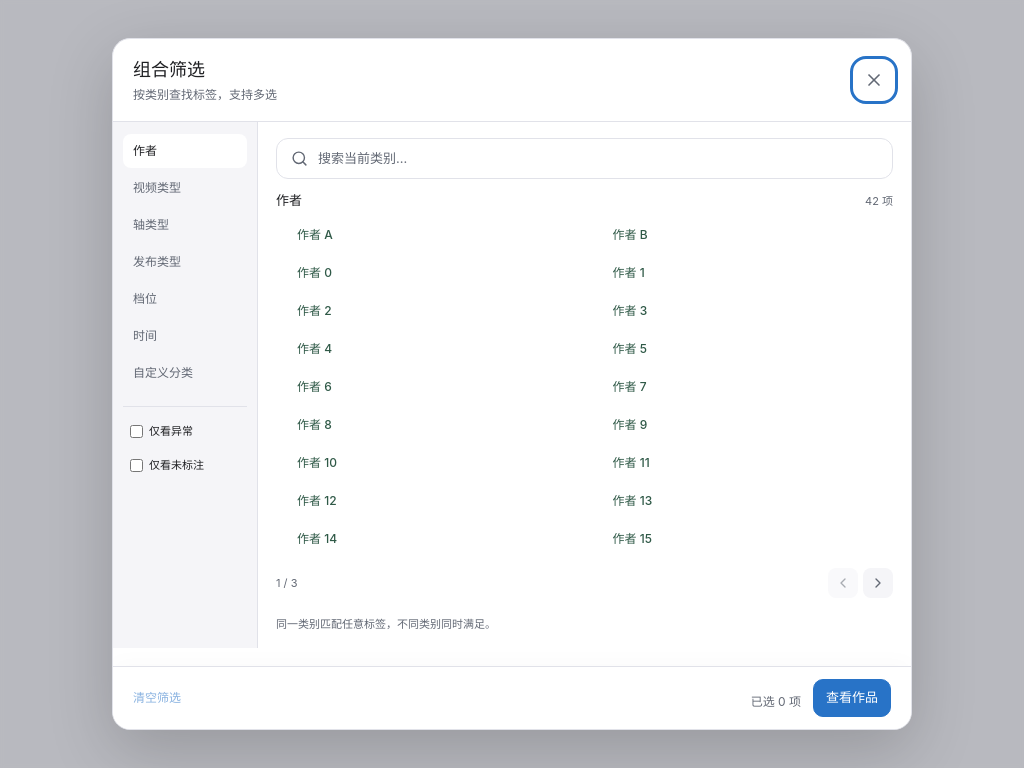
it: multi category inventory filter › uses bounded pages and search rather than expanding all tags
The width and height of the screenshot is (1024, 768).
Click the button named "下一页" at (878, 583), box [863,568,893,598]
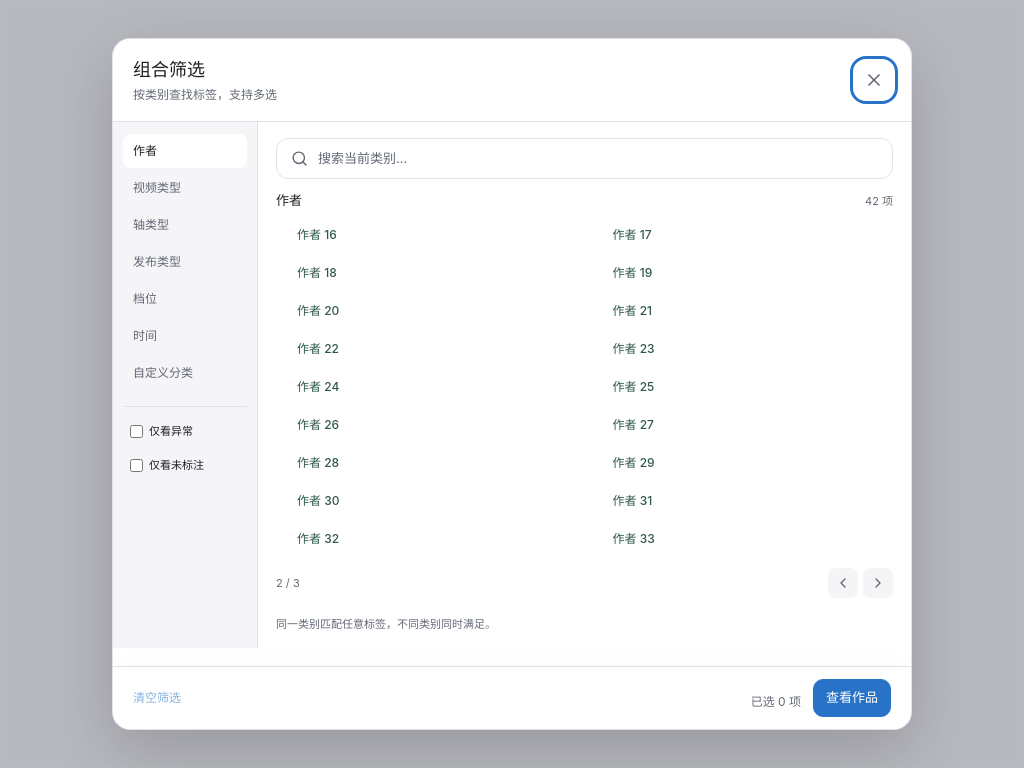
Type "作者 39" into the search field named "搜索筛选标签" at (598, 159), box [318,139,878,178]
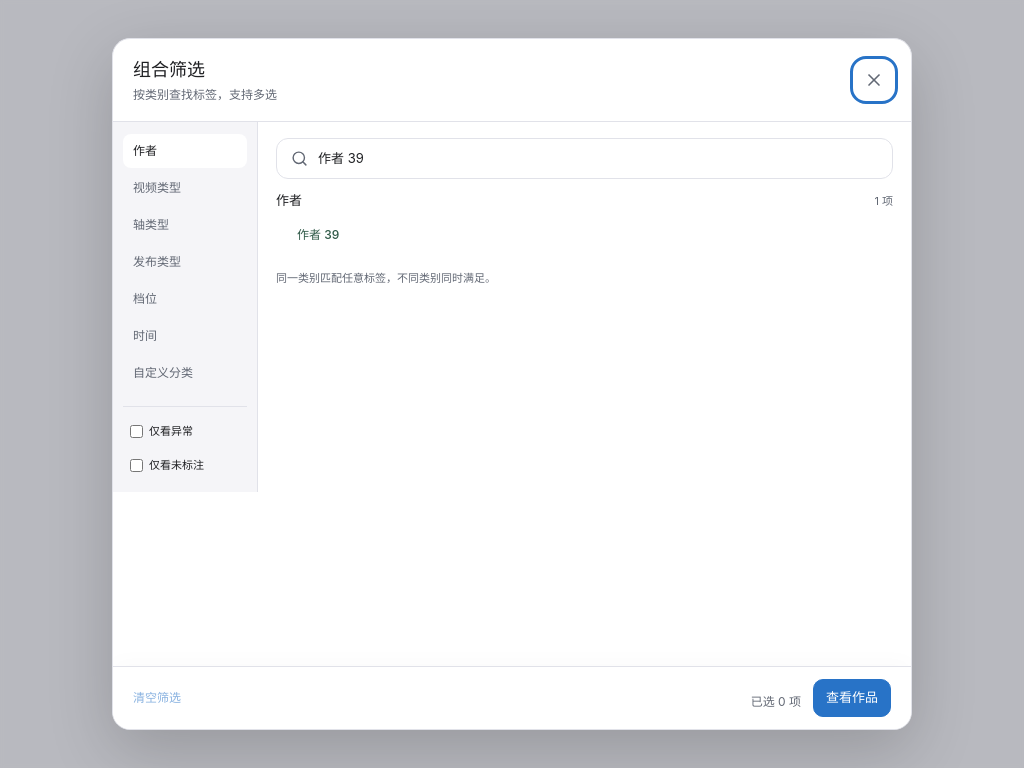
Expected: the button "下一页" is gone
